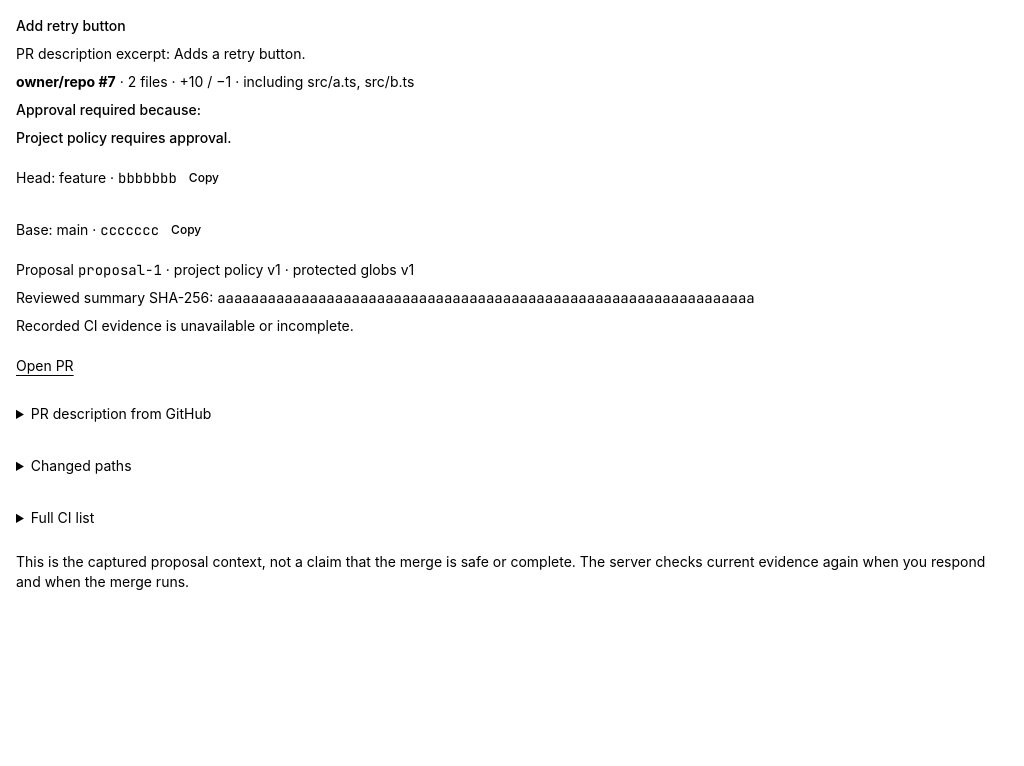
it: detail paging › shows the description and CI sections, with unsafe result links dropped
Step 1. Click the heading "PR description from GitHub" → [121, 414], box [31,405,211,422]
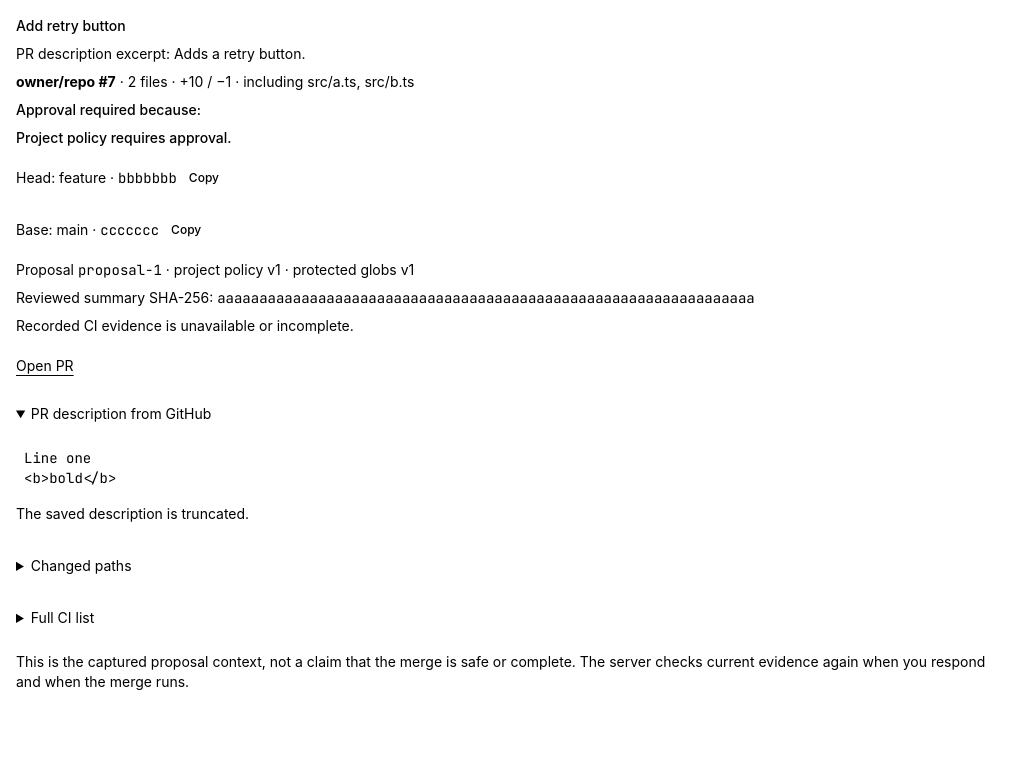
Now the text "Line one <b>bold</b>" is shown, box [24,449,116,487]
Now the text "The saved description is truncated." is shown, box [16,505,249,522]
Step 2. Click the heading "Full CI list" → [63, 618], box [31,609,94,626]
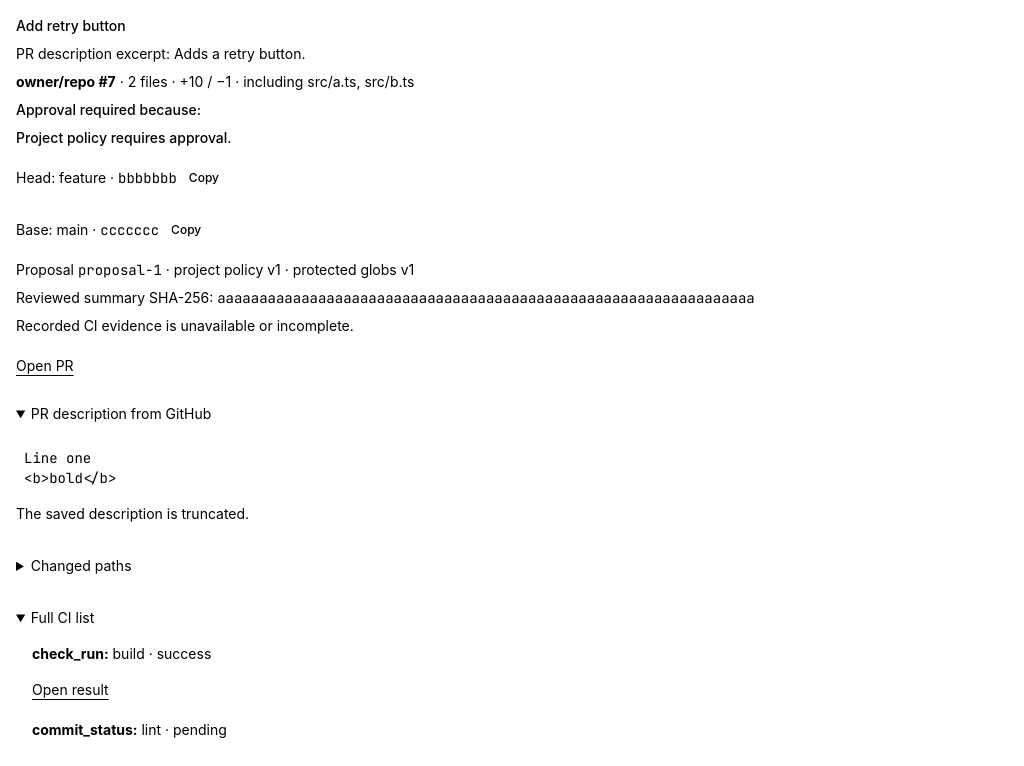
Now the text "check_run: build · success" is shown, box [32,645,211,662]
Now the number of links "Open result" is 1, box [32,681,109,698]
